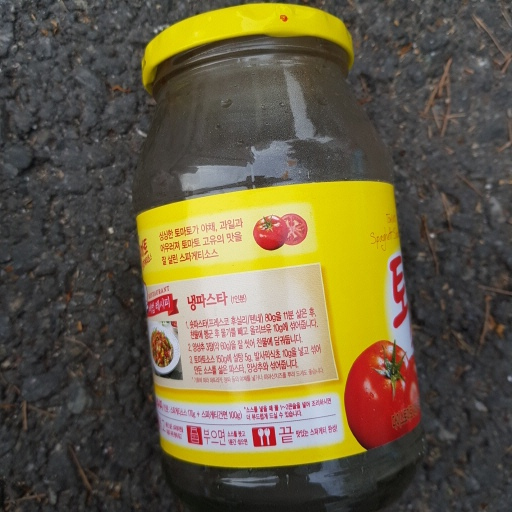Glass_5: (131, 1, 422, 507)
